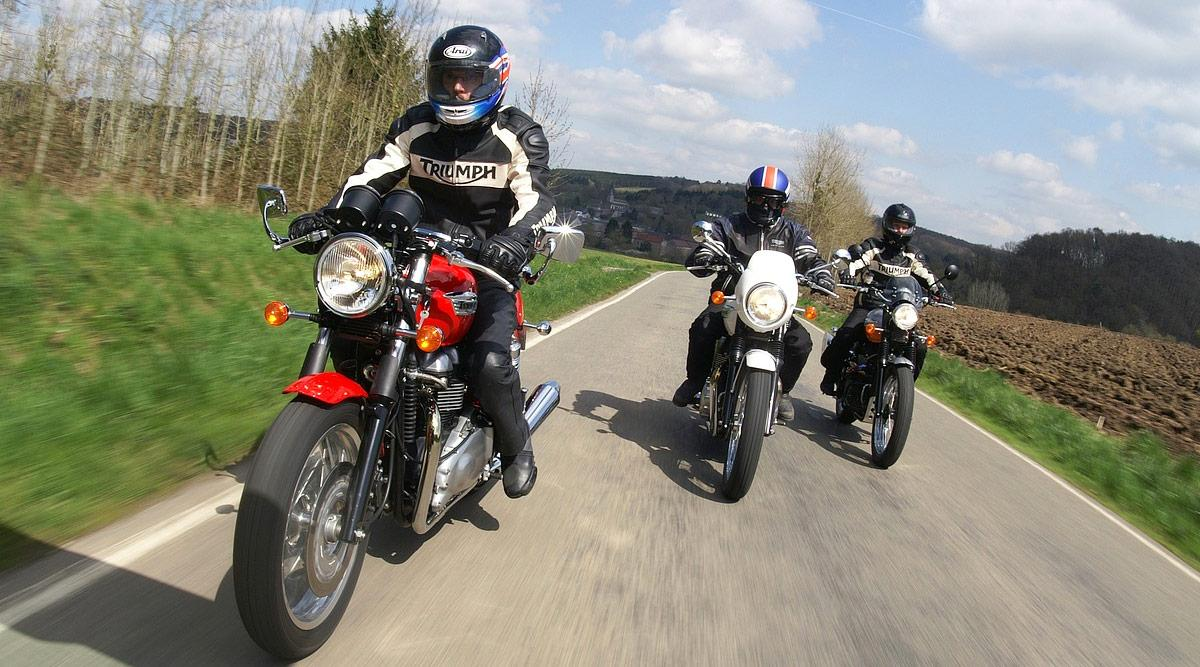helmet: (400, 0, 524, 116), (732, 134, 800, 221), (876, 195, 918, 259)
